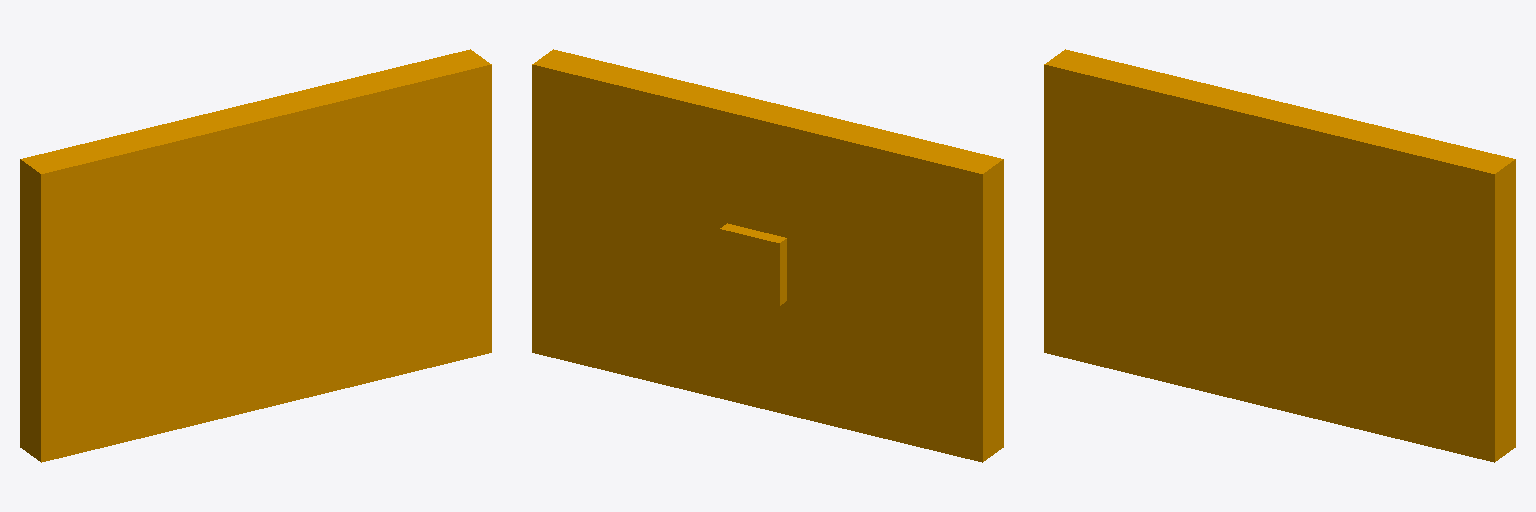
robot.urdf — monitor_panel:
<robot name="monitor_panel">
<link name="panel"><inertial><origin xyz="0.00000 -0.05288 -0.00288"/><mass value="6.5"/><inertia ixx="1.161e-01" ixy="0" ixz="0" iyy="4.188e-01" iyz="0" izz="3.066e-01"/></inertial>
<visual><origin xyz="0.00000 0.00000 0.00000" rpy="0.00000 0.00000 0.00000"/><geometry><mesh filename="monitor_panel_vis.obj"/></geometry></visual>
<collision><origin xyz="0.00000 -0.05288 -0.00288" rpy="0 0 0"/><geometry><box size="0.75000 0.06000 0.45900"/></geometry></collision>
<collision><origin xyz="0.00000 -0.01080 0.00000" rpy="0 0 0"/><geometry><box size="0.10000 0.02150 0.10000"/></geometry></collision>
</link>
</robot>

--- Facts derived from the render (not from the file) ---
3 views of the same robot in one strip: view 1: azimuth 30°, elevation 25°; view 2: azimuth 150°, elevation 25°; view 3: azimuth 330°, elevation 25° (orthographic).
Robot: monitor_panel — 1 links, 0 joints (none); root link panel; default pose: all joints at 0.
Links seen in each view (by area): view 1: panel; view 2: panel; view 3: panel.
Boxes of the visible links, x1,y1,x2,y2 form: panel: (20,49,491,462); panel: (532,49,1003,462); panel: (1044,49,1515,462).
Size in the robot's own frame: 0.75 by 0.0828 by 0.459 metres.
Meshes: 1 distinct files referenced, 1 mesh visuals loaded (1 OBJ).
